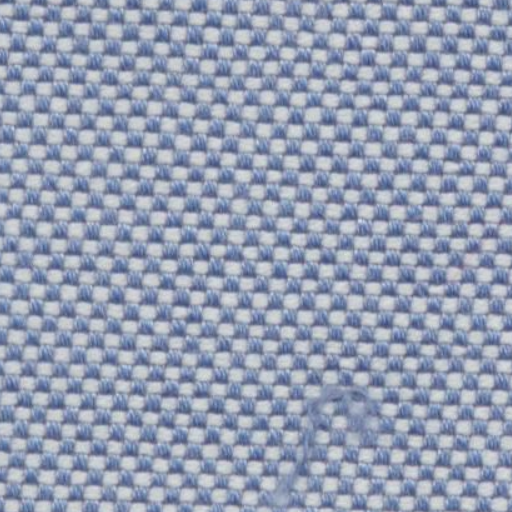DuanSha: (256, 384, 436, 503)
